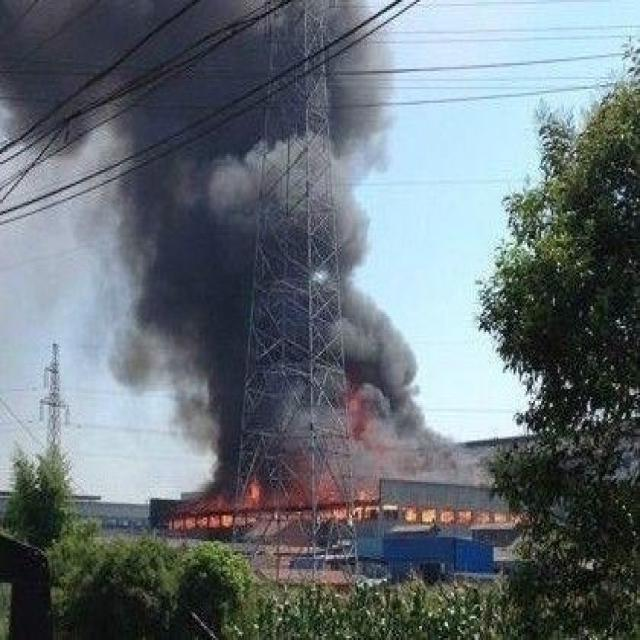Smoke: (1, 2, 502, 506)
